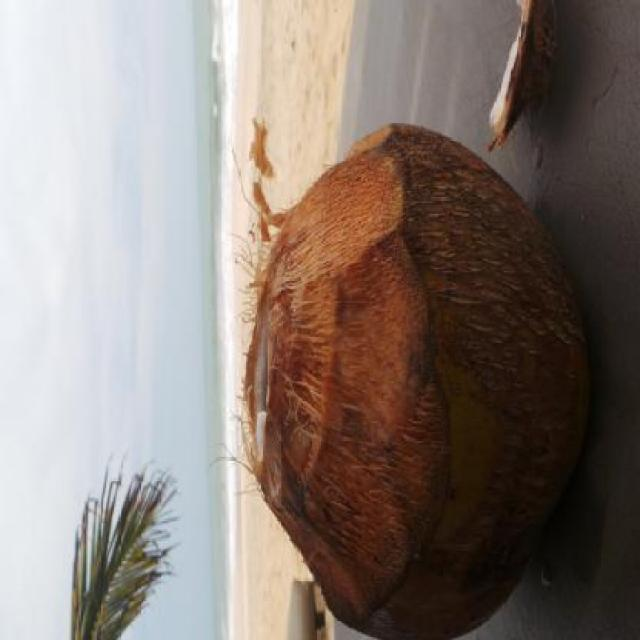Coconut: (208, 102, 592, 640)
